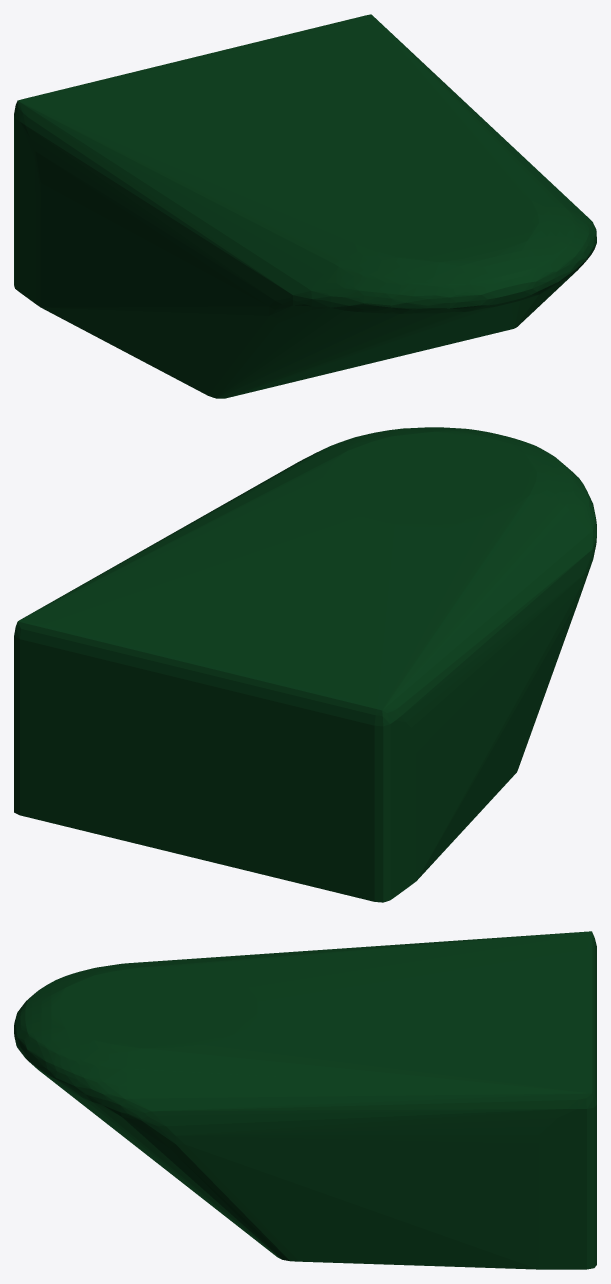
The model's file is left_palm_part_25.obj.
The picture shows the model from 3 angles, top to bottom: view 1: azimuth 30°, elevation 25°; view 2: azimuth 150°, elevation 25°; view 3: azimuth 270°, elevation 25°; orthographic projection. The views are drawn at different scales.
Size of the model in its own units: 21.65 by 11.02 by 31.94.
